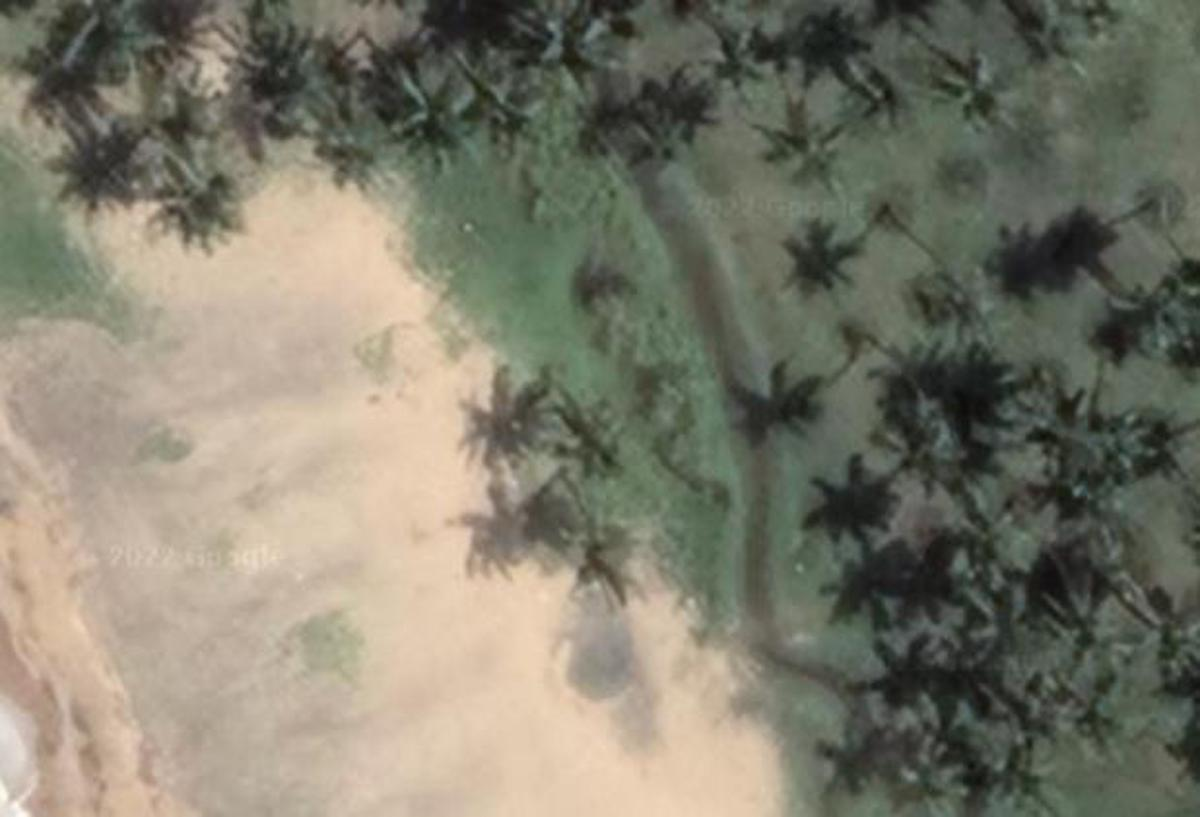coconut: (374, 62, 495, 180), (141, 122, 258, 242), (1040, 390, 1159, 504), (225, 17, 341, 133), (858, 405, 976, 514), (1027, 556, 1133, 667), (557, 502, 662, 609), (52, 0, 168, 95), (1031, 652, 1133, 758), (514, 0, 627, 89), (984, 366, 1079, 471), (972, 729, 1081, 817), (920, 44, 1025, 135), (943, 483, 1033, 586), (883, 716, 974, 817), (1112, 261, 1200, 360), (953, 574, 1048, 665), (613, 93, 699, 186), (1118, 595, 1200, 692), (551, 390, 646, 473), (842, 62, 926, 147), (1015, 0, 1100, 83), (763, 108, 842, 197), (695, 19, 780, 100), (910, 260, 990, 337)
